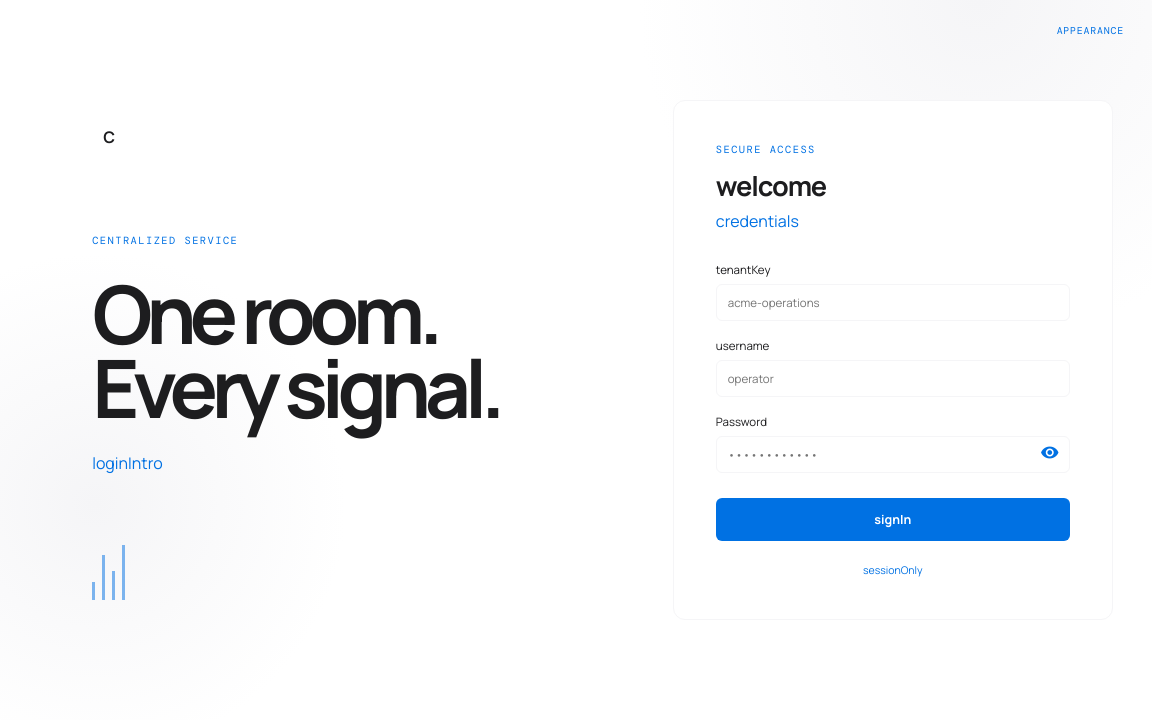
Test: LoginPage › toggles password visibility without changing its value
In the password field labelled "Password": (893, 454) [716,436,1070,473], type "strong-password"
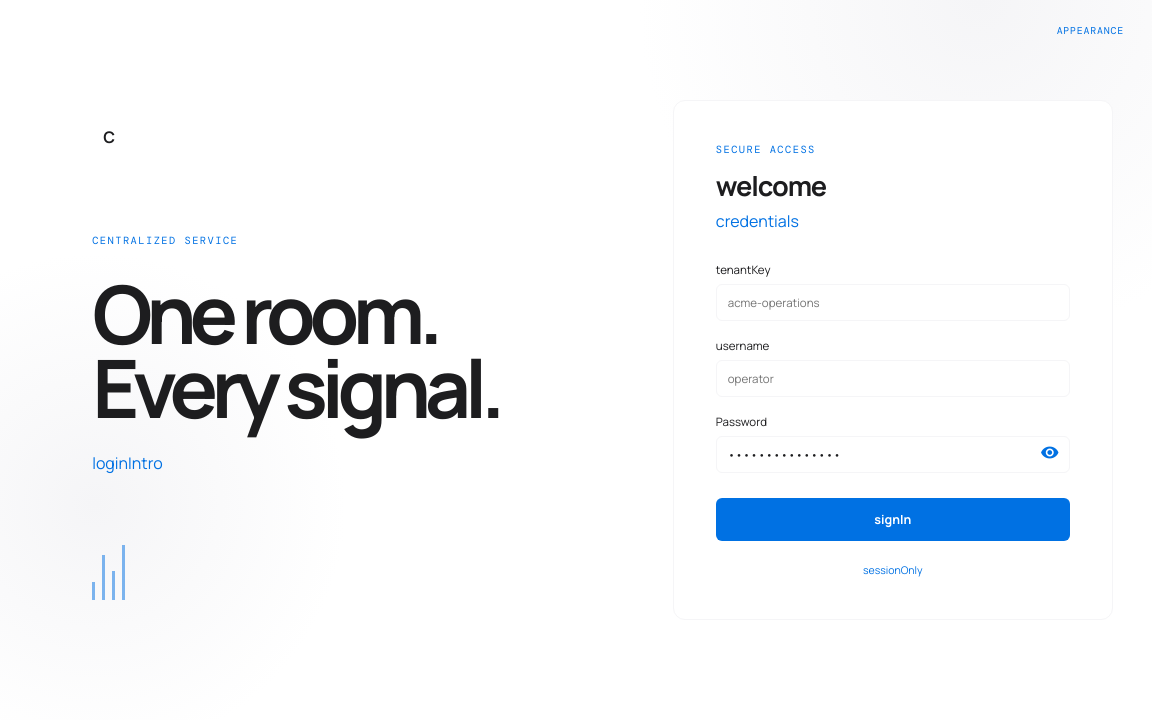
Click the button named "Show password": (1050, 453) [1031,434,1069,472]
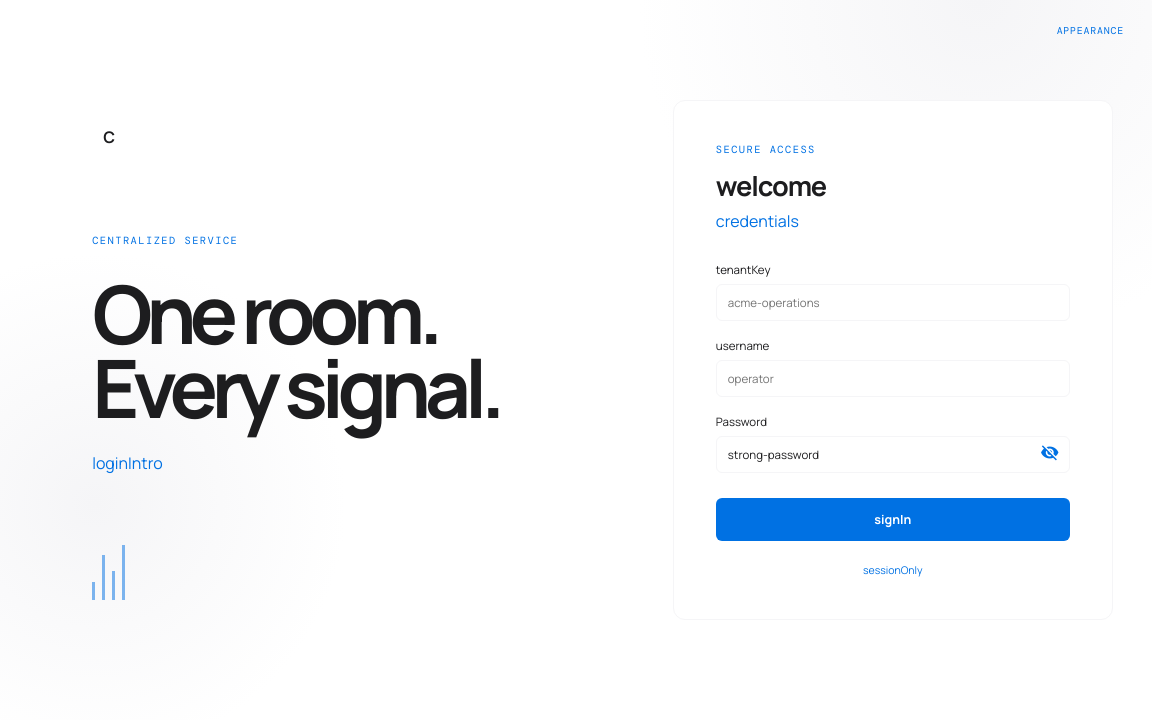
Check: the field labelled "Password" shows its text, box [716,436,1070,473]
